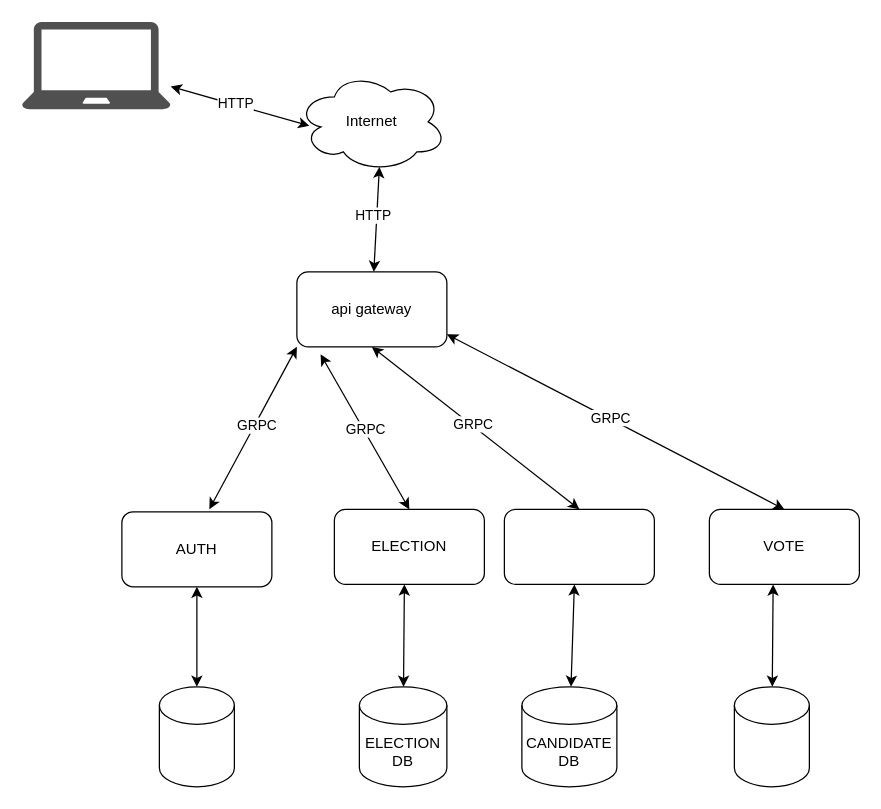
Image size: 881x809. Some labels were removed from this diagram. The shapes that lost their labels are listed below. From the top down, each one's centre as x and y in pixels, then its label:
the point at 578,546: CANDIDATE
the point at 196,736: AUTH DB
the point at 771,736: VOTE DB
